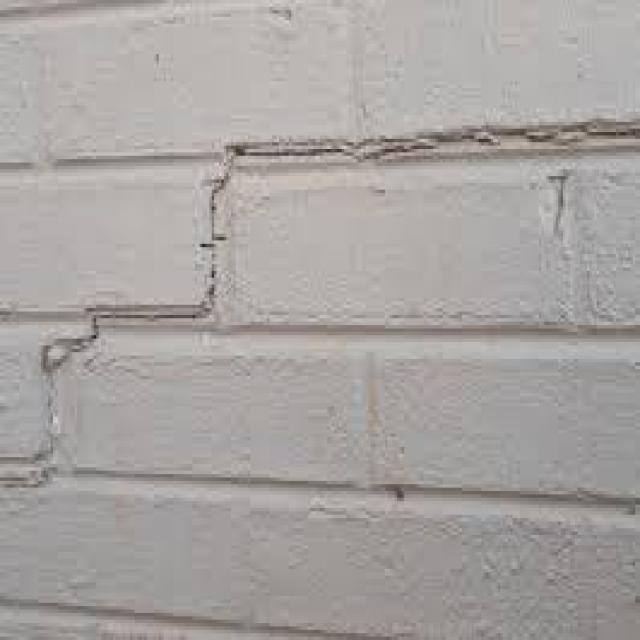Crack: (0, 112, 638, 491)
